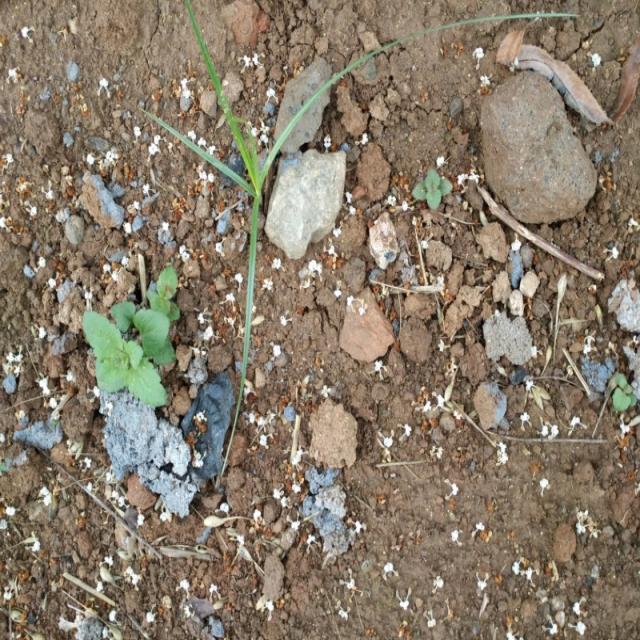sedge: (153, 0, 393, 421)
